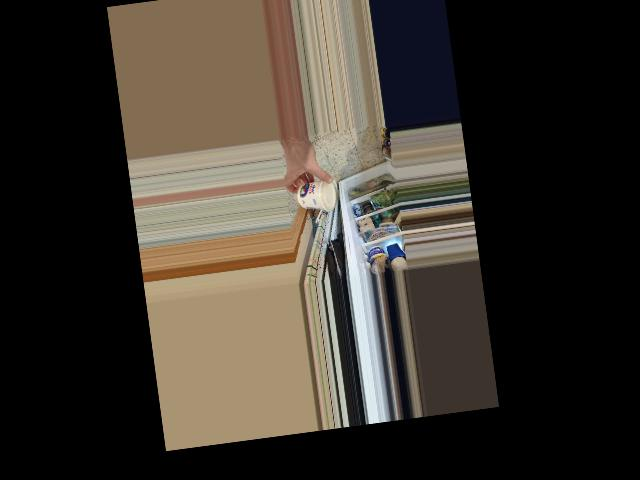cotage: (295, 178, 339, 213)
